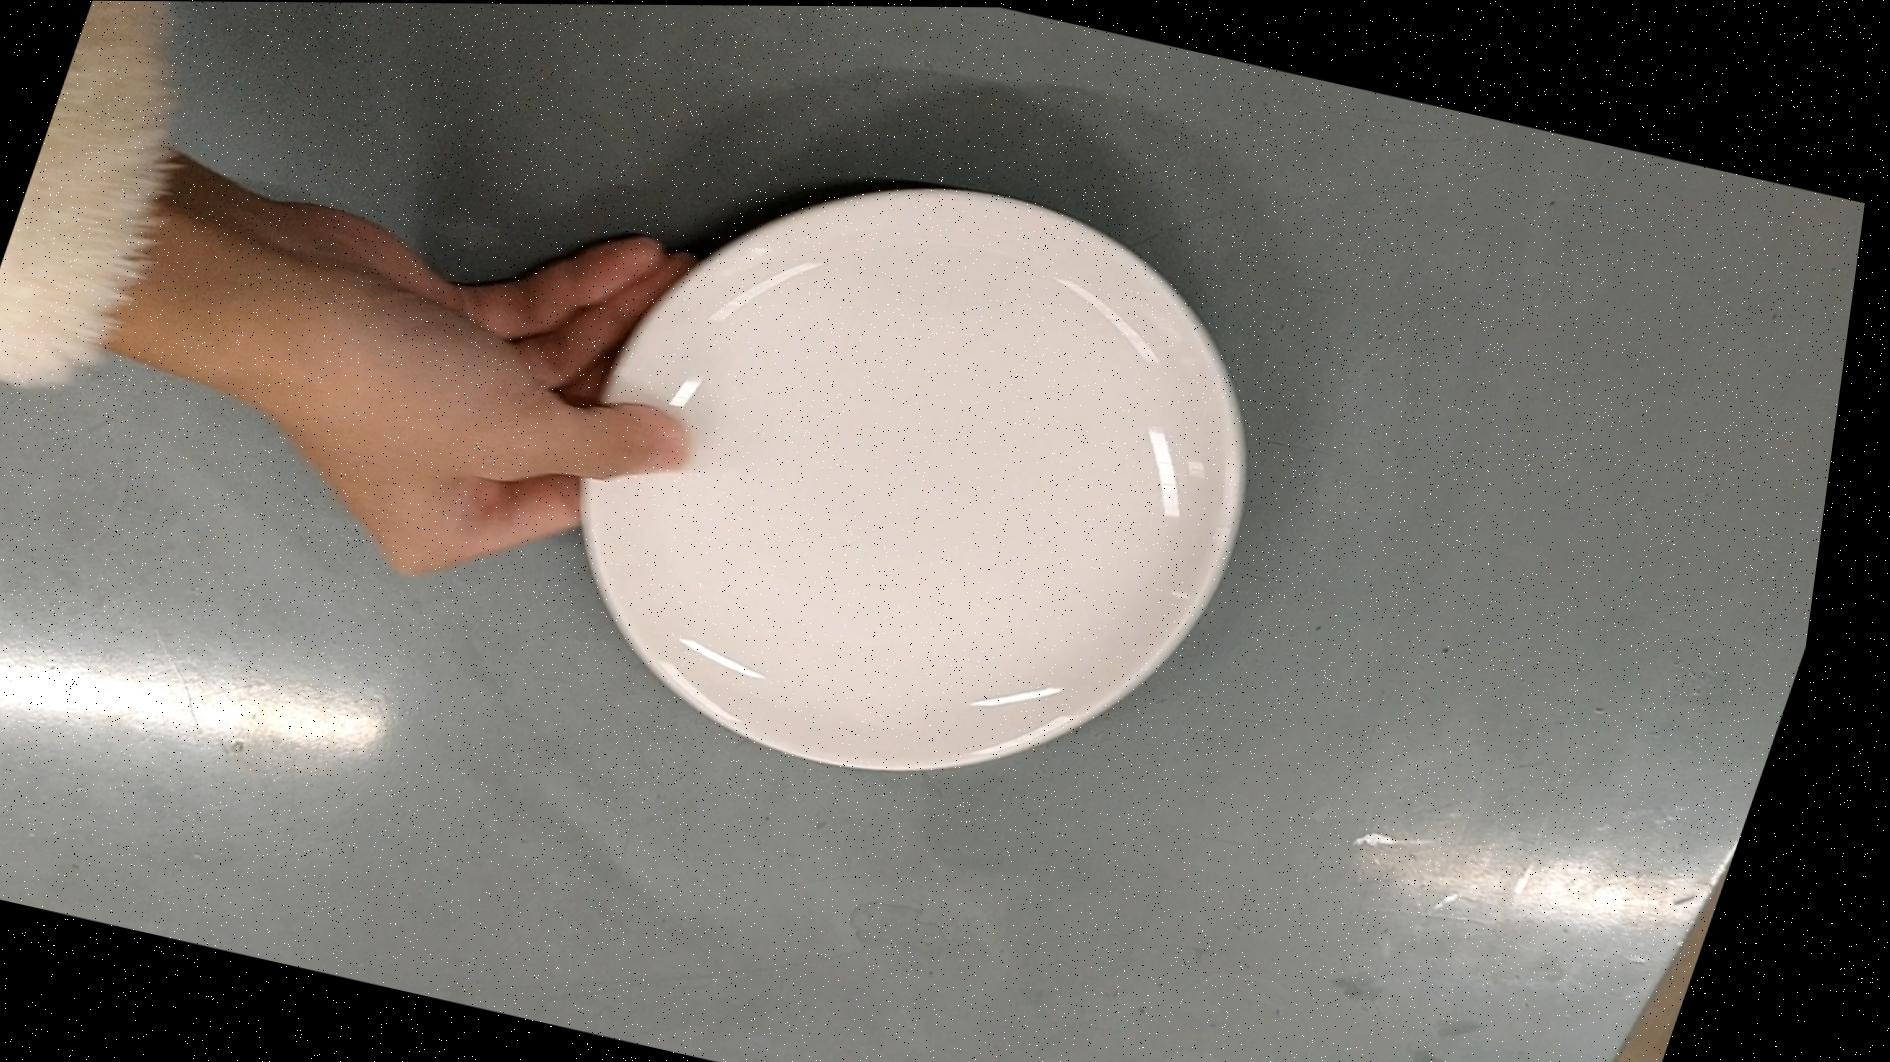plate: (501, 122, 1351, 835)
